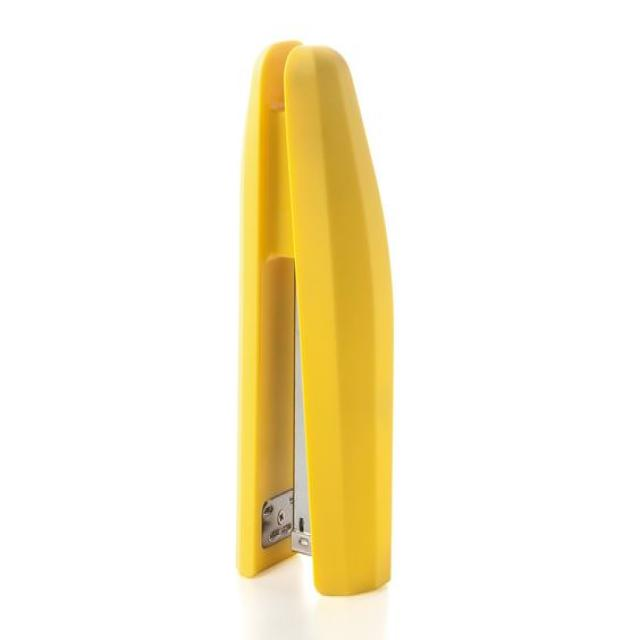Stapler: (204, 0, 427, 611)
